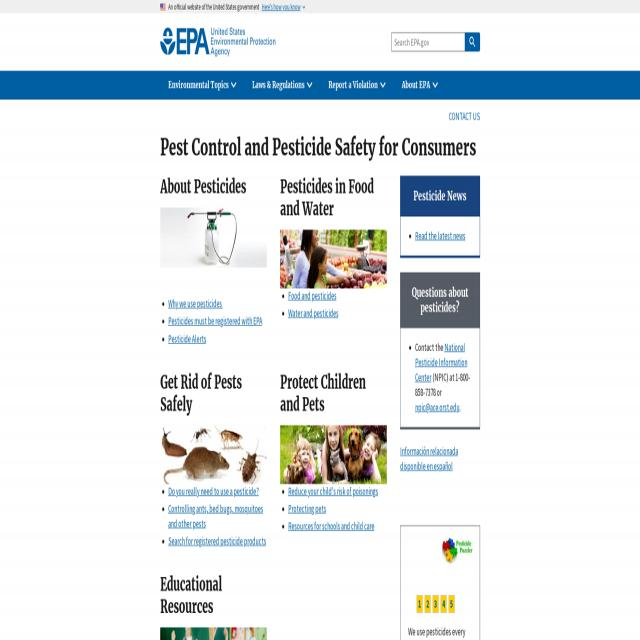button: (160, 207, 267, 268), (160, 425, 267, 484), (280, 425, 386, 484), (280, 230, 386, 288), (160, 28, 276, 56), (160, 70, 244, 100), (244, 70, 321, 100), (320, 70, 394, 100), (394, 70, 446, 100), (442, 538, 473, 564), (262, 2, 300, 12), (465, 32, 480, 52), (416, 595, 423, 613), (424, 595, 431, 613), (432, 595, 439, 613), (440, 595, 447, 613), (449, 595, 455, 613), (160, 4, 166, 10)
field: (391, 32, 465, 52)
